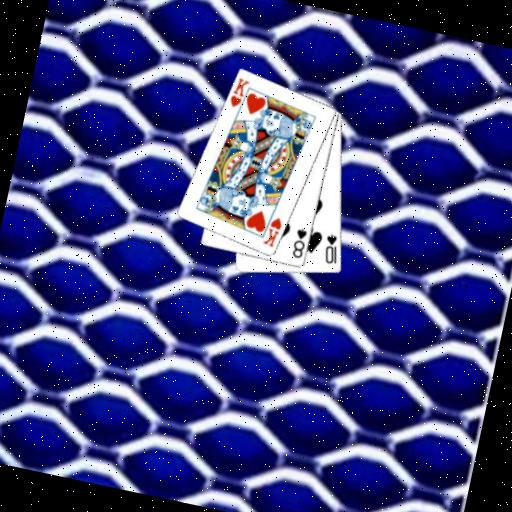10S: (318, 230, 344, 267)
8S: (288, 224, 309, 260)
KH: (259, 212, 285, 250), (225, 74, 251, 111)
